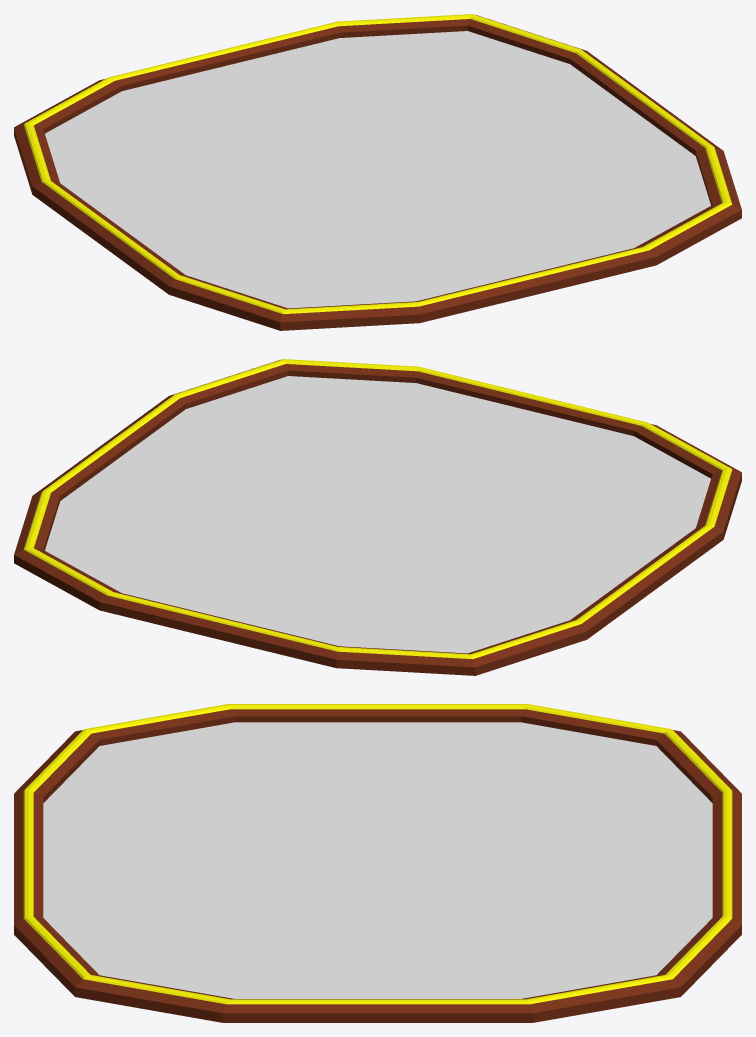
Rendered from Mirror.fbx.
3 renders of one model, top to bottom at view 1: azimuth 30°, elevation 25°; view 2: azimuth 150°, elevation 25°; view 3: azimuth 270°, elevation 25°, orthographic. The views are drawn at different scales.
Visible parts, largest first — view 1: Куб; view 2: Куб; view 3: Куб.
Part boxes in pixels (x1,y1,x2,y2): Куб: (14, 14, 741, 330); Куб: (14, 359, 741, 675); Куб: (14, 704, 741, 1022).
Bounding box in the file's own units: 9.95 × 400 × 400.
